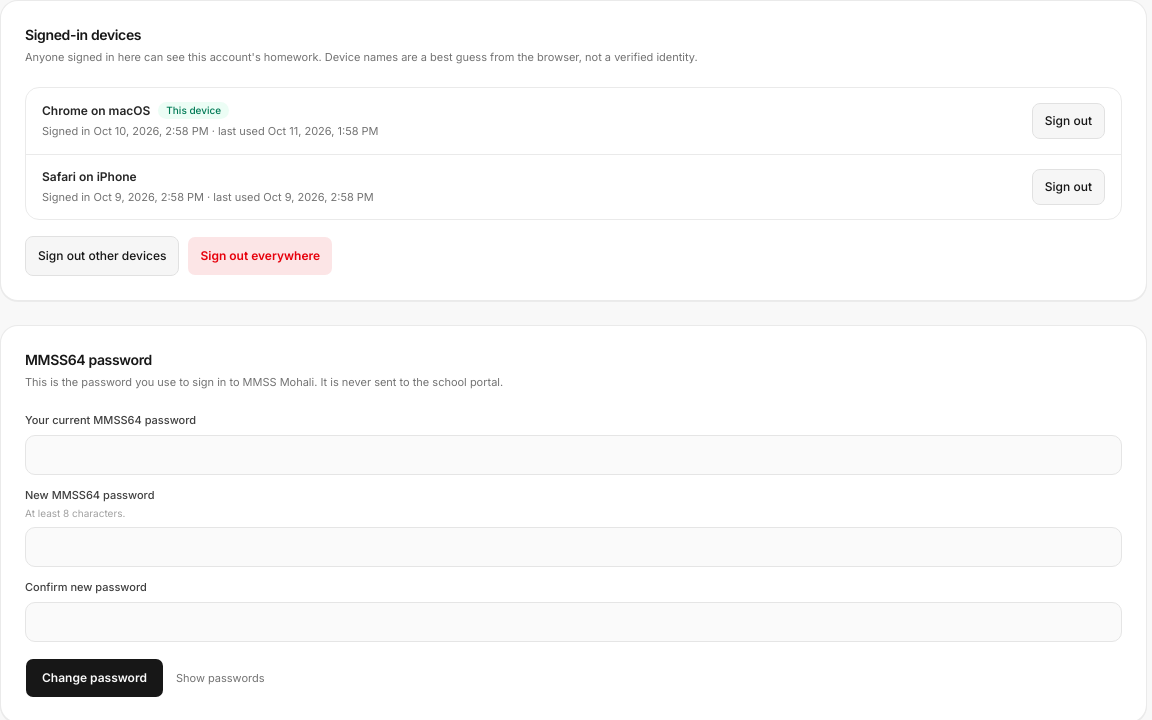
Scenario: AccountSecurityPanel › shows the server error when a revocation is refused
Click the button "Sign out other devices" at (102, 256), box [25,236,179,276]
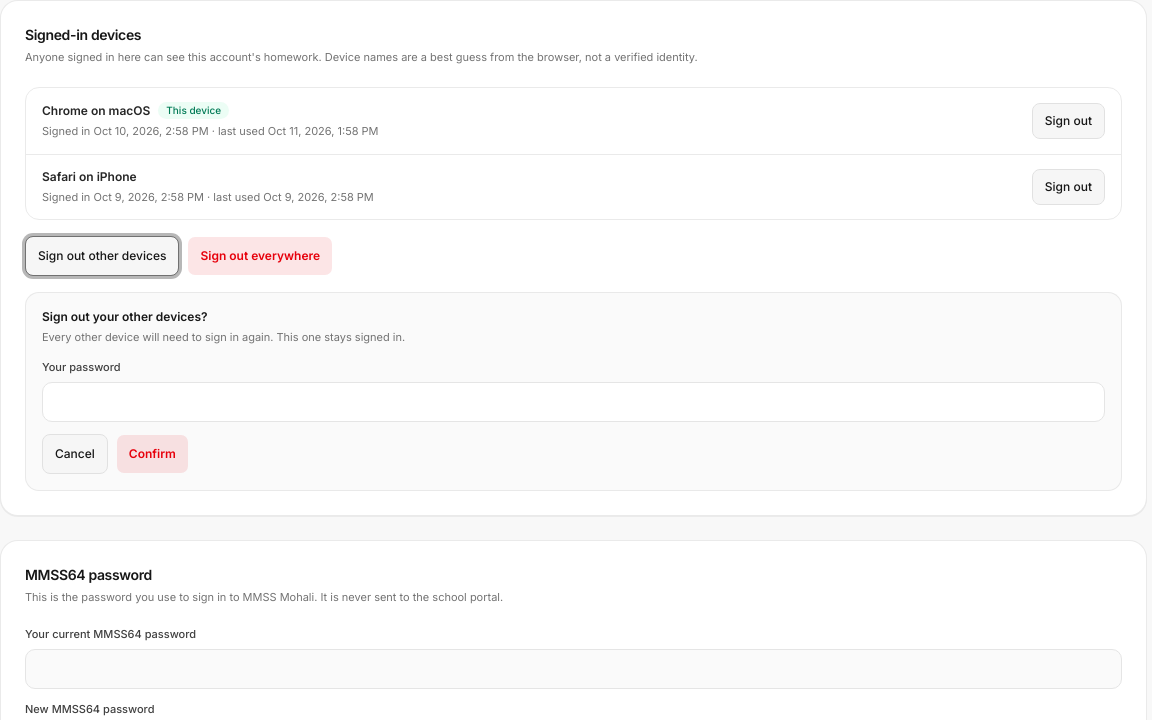
Type "wrong" into the password field labelled "Your password" at (574, 402), box [42,382,1105,422]
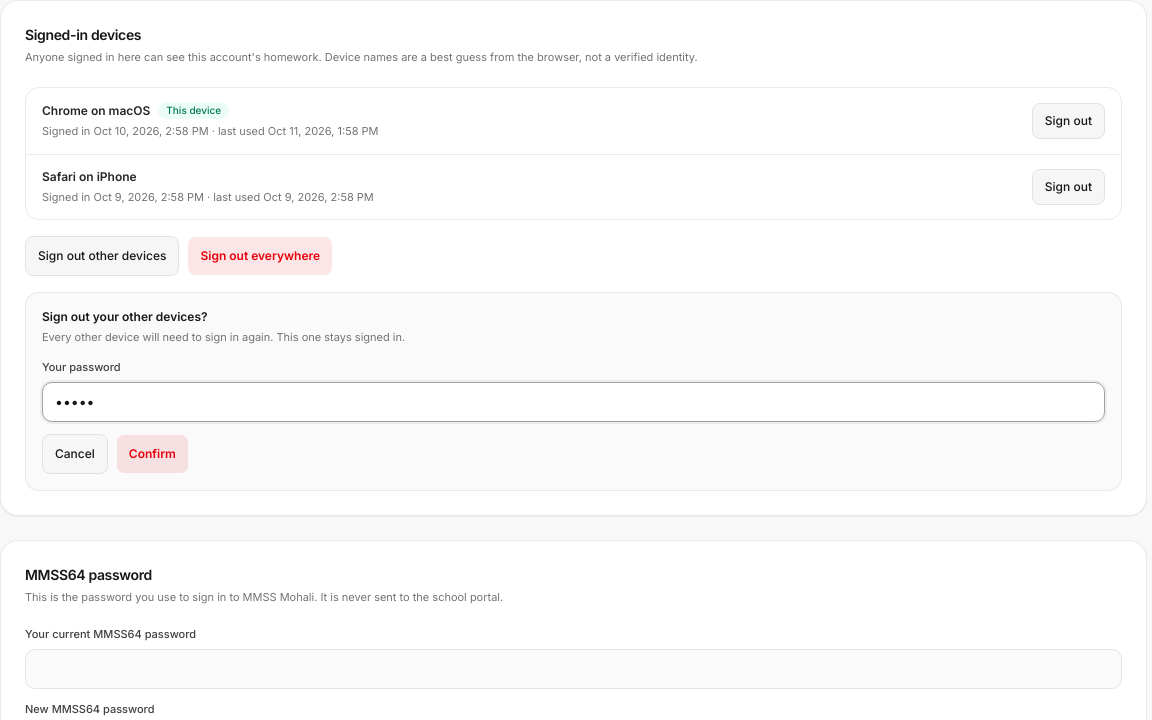
Click the button "Confirm" at (152, 454), box [116,434,189,474]
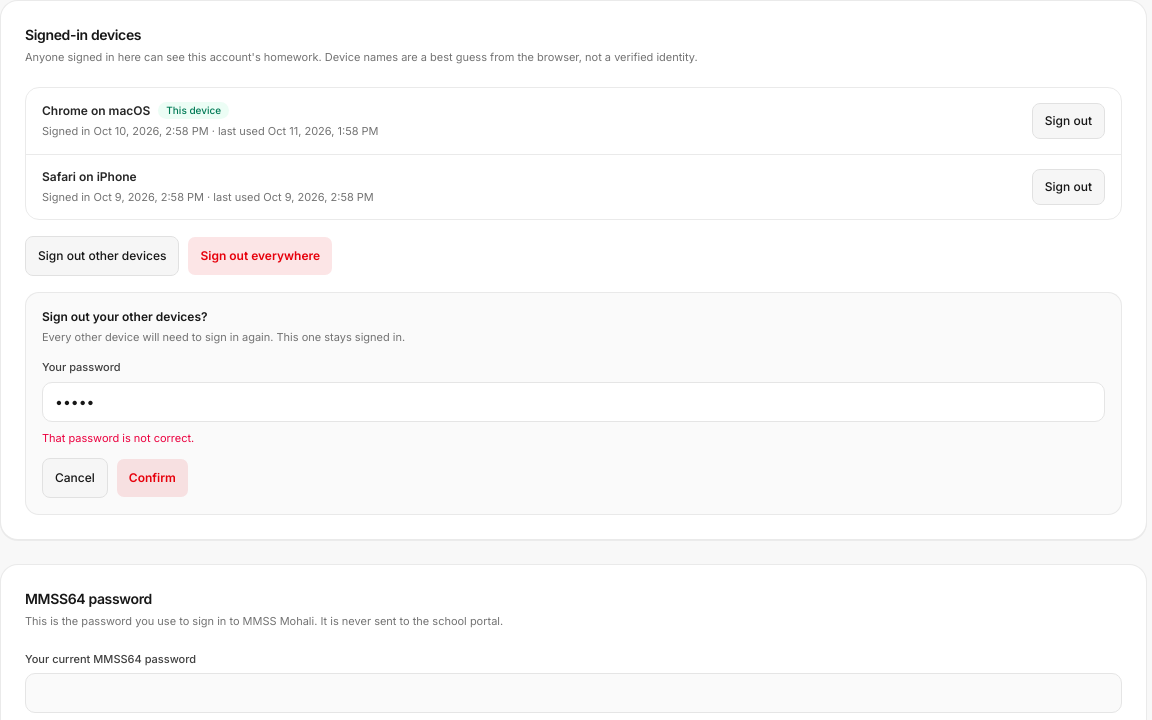
Now the text "That password is not correct." is shown, box [42,431,194,445]
